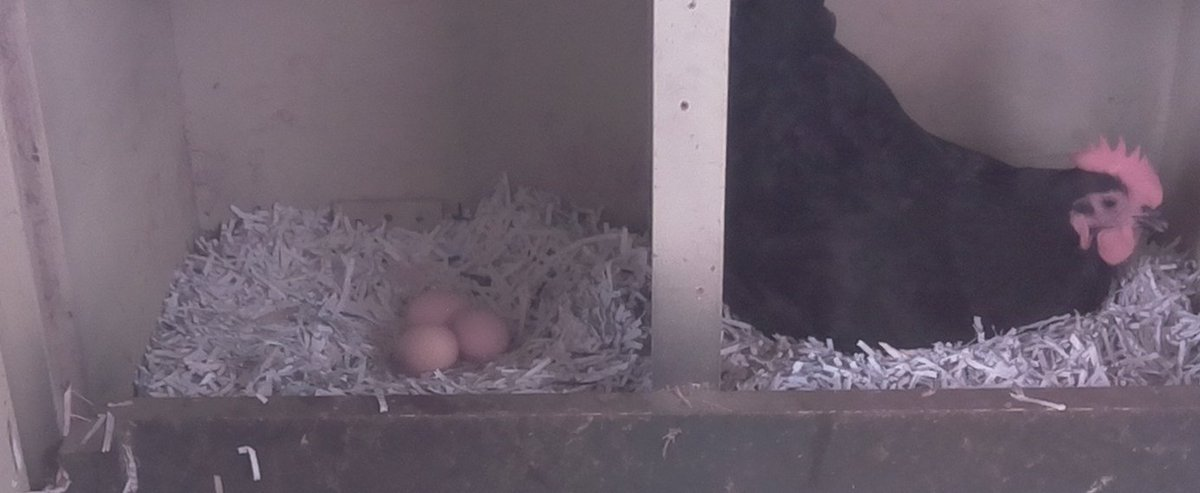egg: (389, 322, 463, 375), (454, 303, 516, 364), (397, 288, 473, 324)
hen: (731, 3, 1170, 358)
